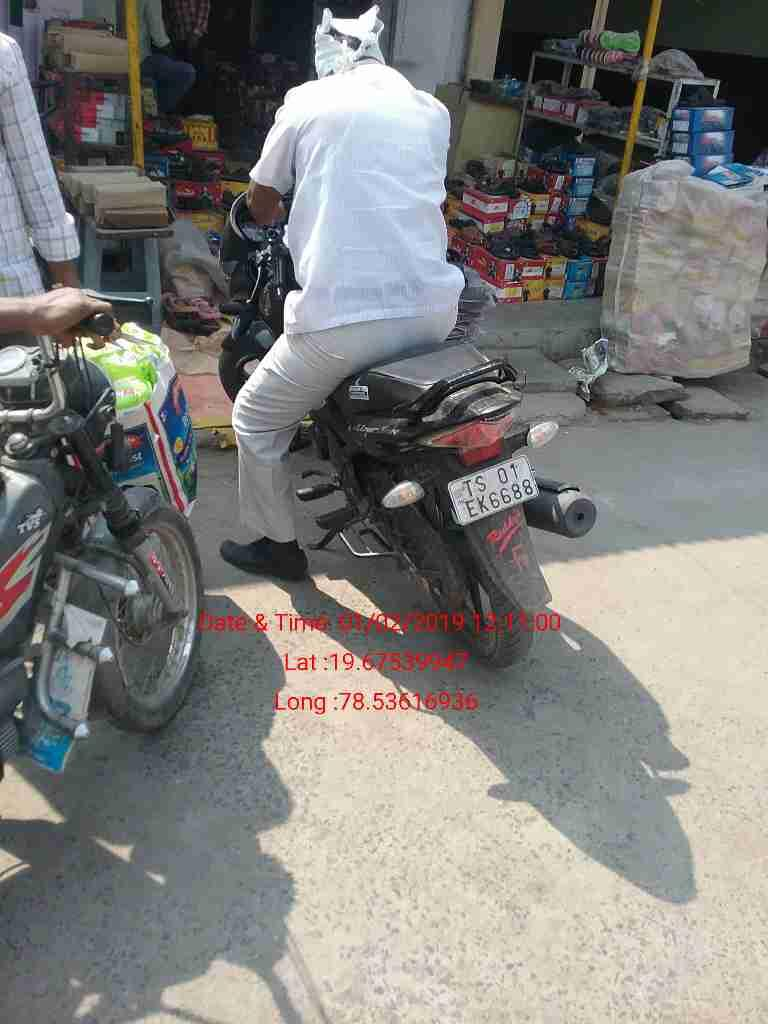plate: (441, 455, 547, 522)
